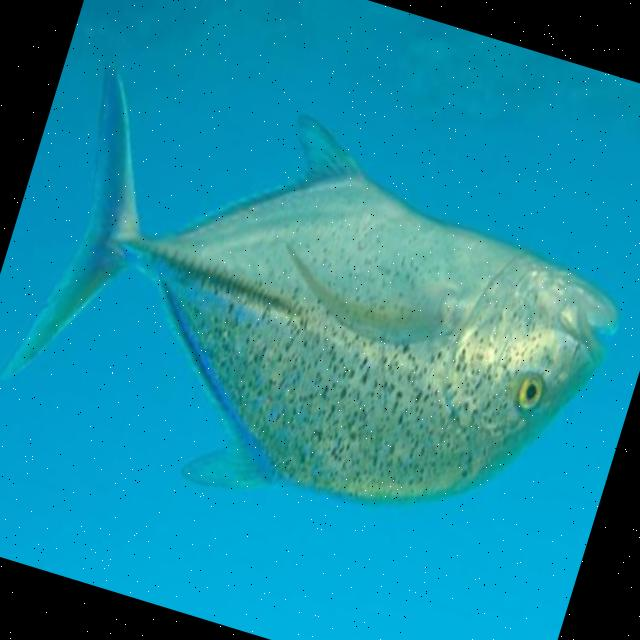ikan: (0, 49, 640, 593)
